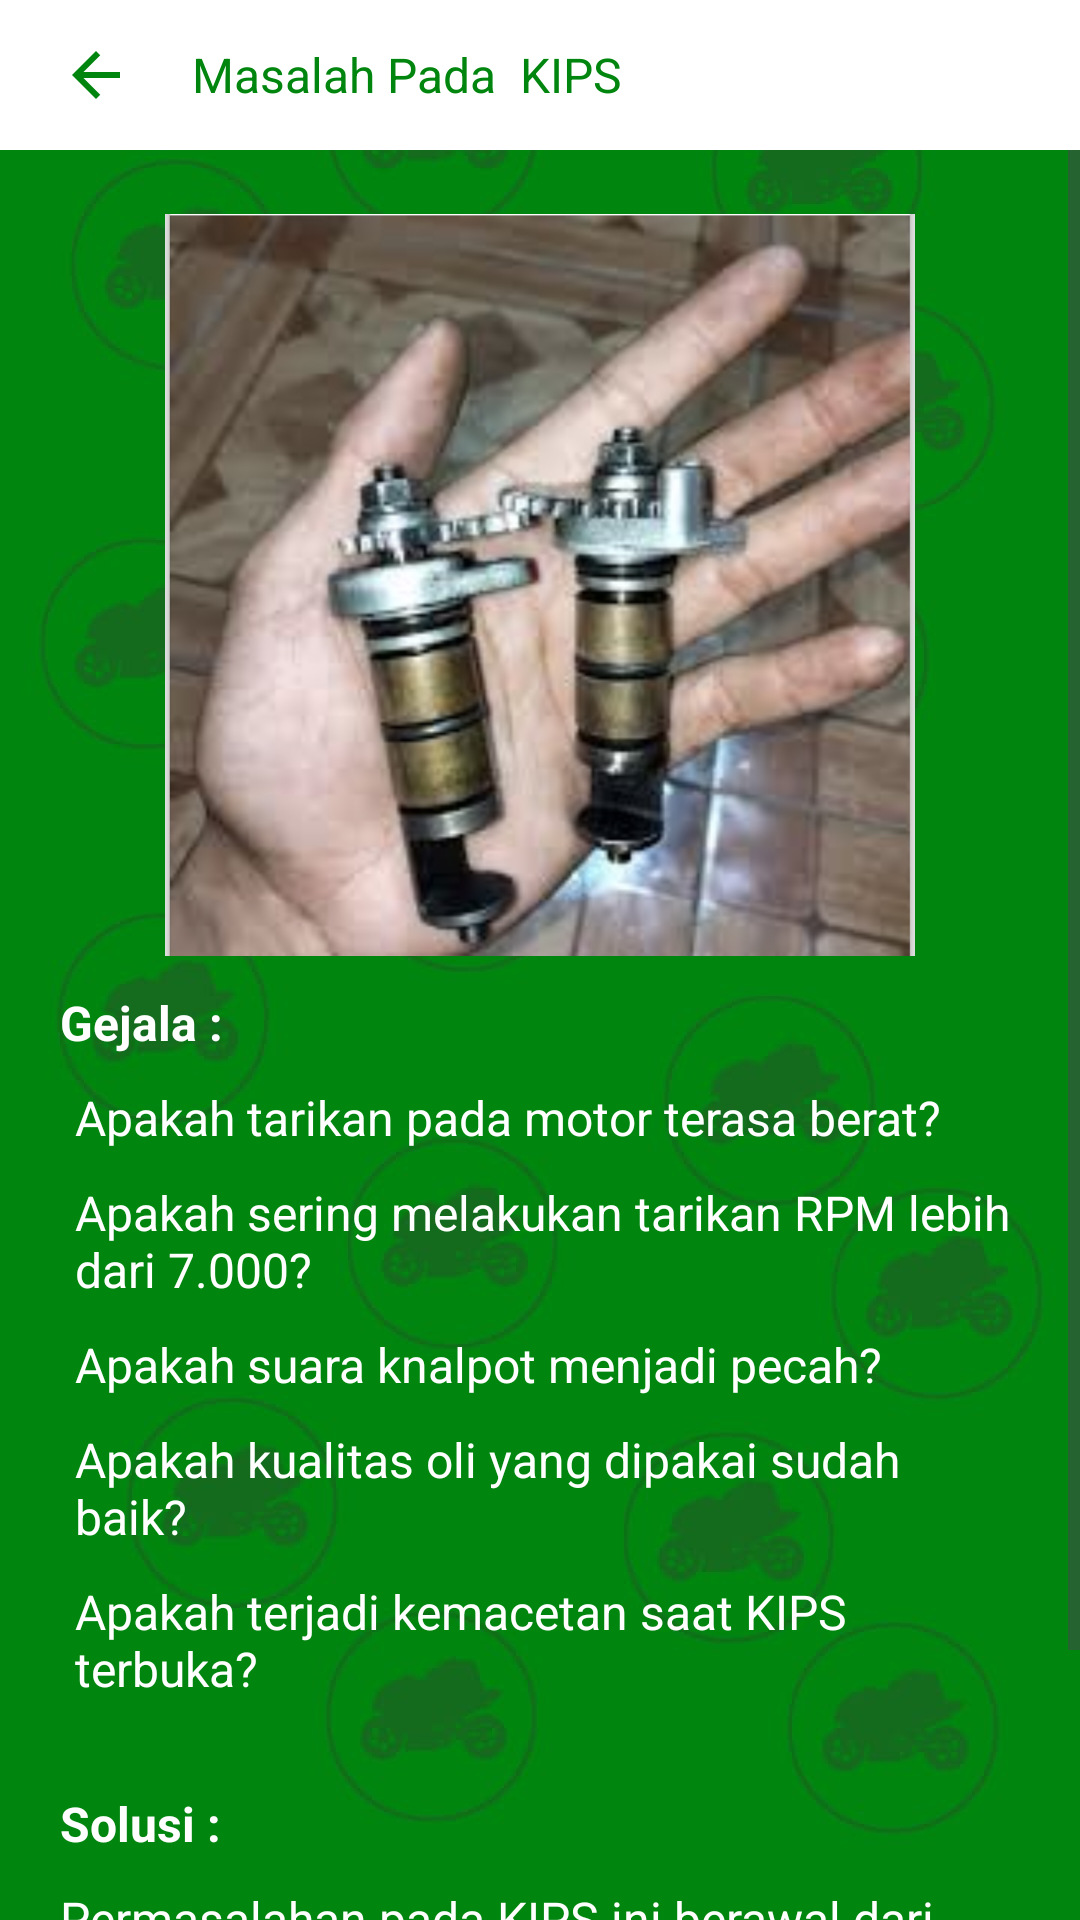

Icon click points for this 1080w x 1920h phone screenshot, format (x,y):
arrow back: (96,75)
